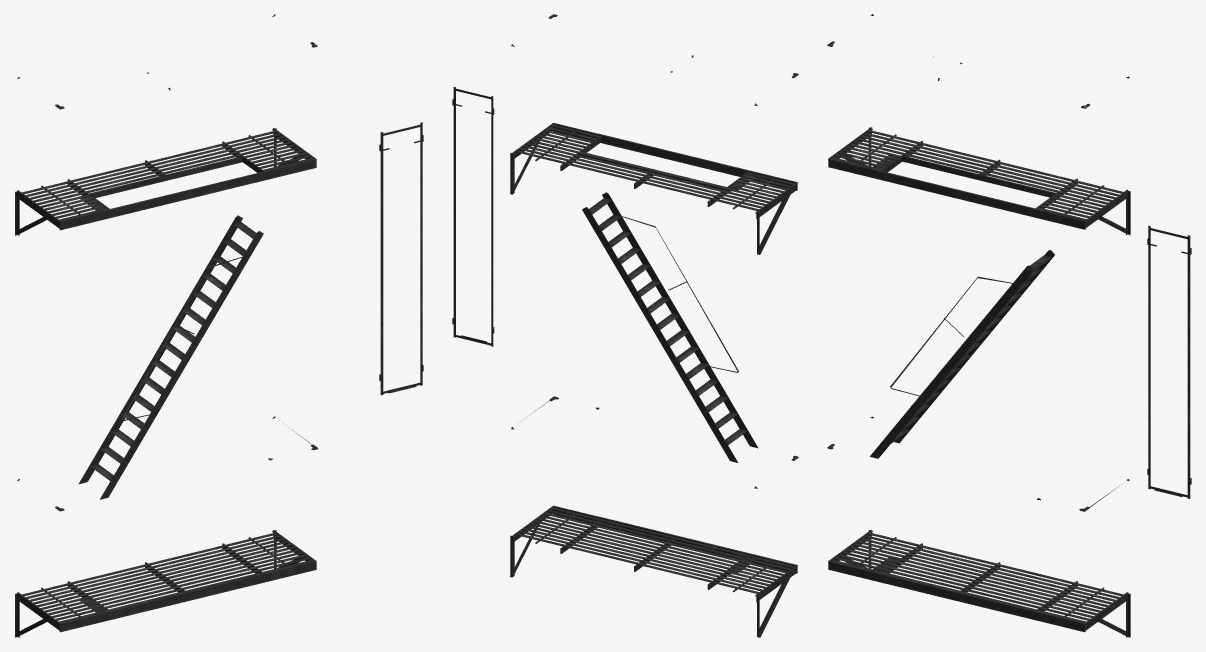
The model's file is modular_fire_escape.glb.
3 renders of one model, left to right at view 1: azimuth 30°, elevation 25°; view 2: azimuth 150°, elevation 25°; view 3: azimuth 330°, elevation 25°, orthographic. The views are drawn at different scales.
Parts seen in each view (by area): view 1: modular_fire_escape_platform_middle, modular_fire_escape_railing_middle; view 2: modular_fire_escape_platform_middle, modular_fire_escape_railing_middle; view 3: modular_fire_escape_platform_middle, modular_fire_escape_railing_middle.
Boxes of the visible parts, left/top/right/bottom form: modular_fire_escape_platform_middle: left=15, top=128, right=316, bottom=637; modular_fire_escape_railing_middle: left=17, top=14, right=423, bottom=511; modular_fire_escape_platform_middle: left=510, top=123, right=797, bottom=637; modular_fire_escape_railing_middle: left=452, top=14, right=798, bottom=488; modular_fire_escape_platform_middle: left=828, top=127, right=1130, bottom=637; modular_fire_escape_railing_middle: left=827, top=14, right=1191, bottom=511.
Size of the model in its own units: 6.66 by 9.76 by 1.42.
2 materials, 2 textured.
